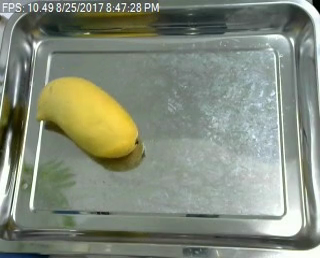Mango: (33, 72, 145, 163)
